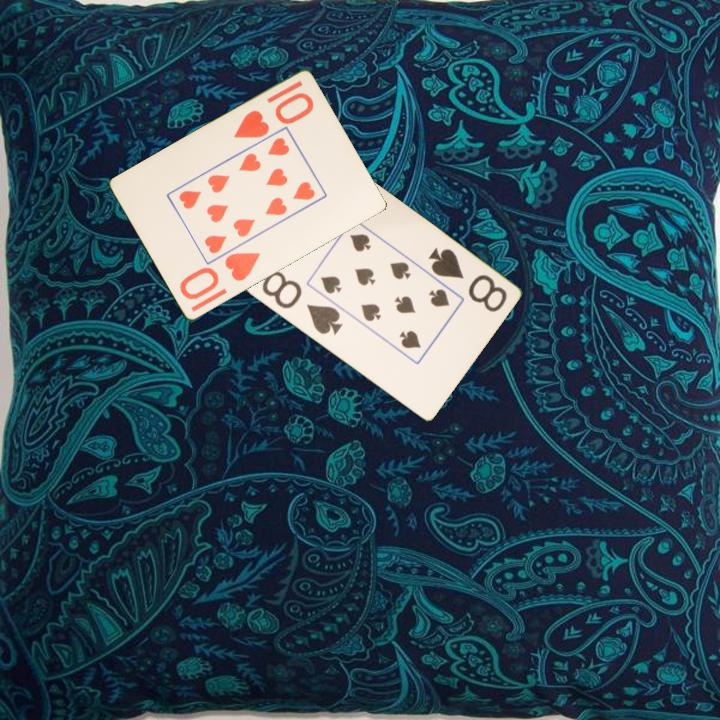10h: (176, 249, 263, 303), (230, 89, 317, 142)
8s: (258, 267, 345, 338), (425, 244, 510, 315)
